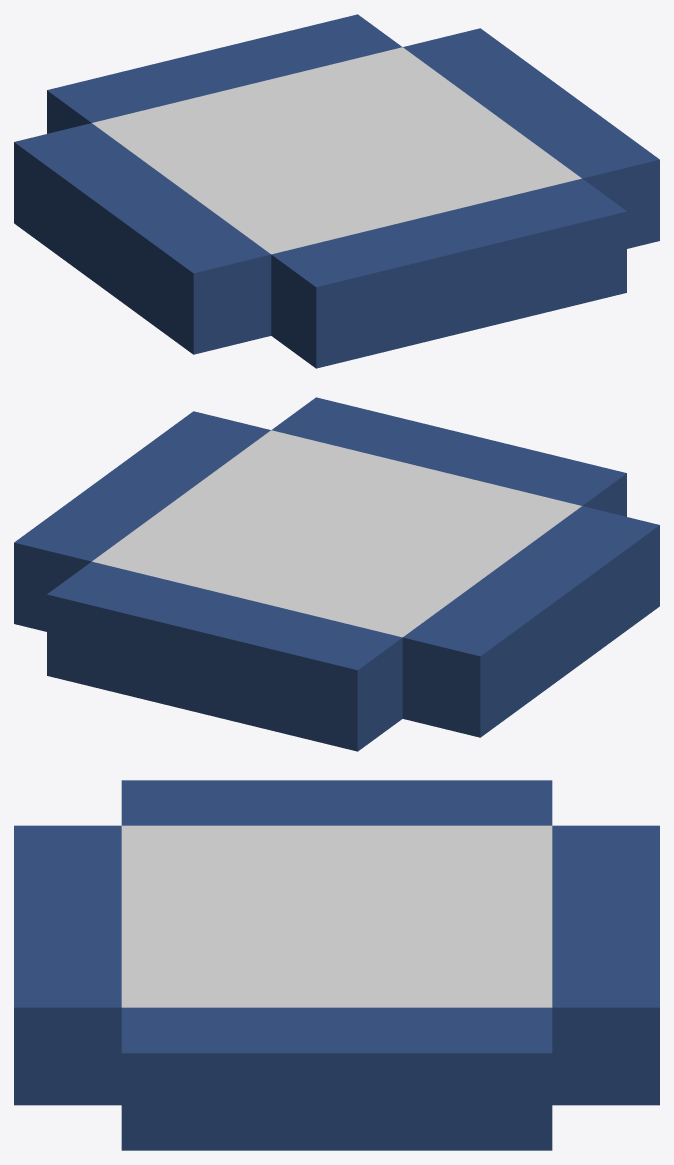
Rendered from DinnerPlateLarge.obj.
3 views of the same model, one above another, from view 1: azimuth 30°, elevation 25°; view 2: azimuth 150°, elevation 25°; view 3: azimuth 270°, elevation 25° (orthographic). The views are drawn at different scales.
Parts seen in each view (by area): view 1: DinnerPlateLarge; view 2: DinnerPlateLarge; view 3: DinnerPlateLarge.
Boxes of the visible parts, left/top/right/bottom form: DinnerPlateLarge: left=14, top=14, right=659, bottom=368; DinnerPlateLarge: left=14, top=397, right=659, bottom=751; DinnerPlateLarge: left=14, top=780, right=659, bottom=1150.
Bounding box in the file's own units: 6 × 1 × 6.
1 material, 1 textured.
